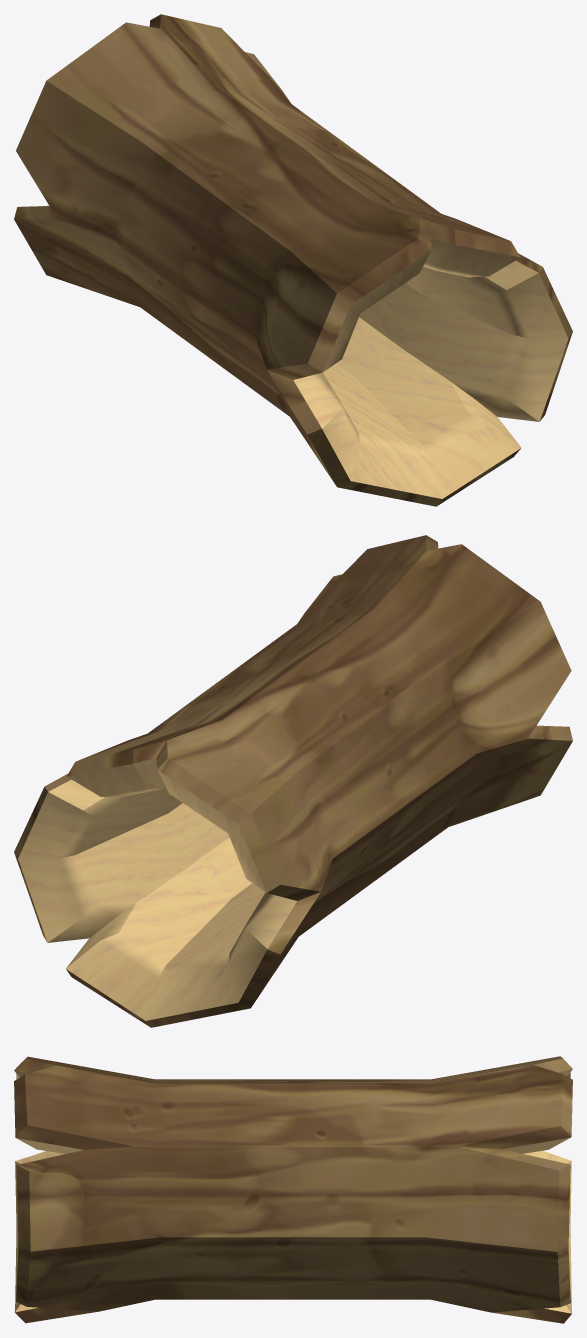
File: log.fbx
3 renders of one model, top to bottom at view 1: azimuth 30°, elevation 25°; view 2: azimuth 150°, elevation 25°; view 3: azimuth 270°, elevation 25°, orthographic. The views are drawn at different scales.
Visible parts, largest first — view 1: Log; view 2: Log; view 3: Log.
Part boxes in pixels (x1,y1,x2,y2): Log: (14, 14, 572, 506); Log: (14, 535, 572, 1027); Log: (14, 1056, 572, 1323).
Bounding box in the file's own units: 26.16 × 25.62 × 51.3.
